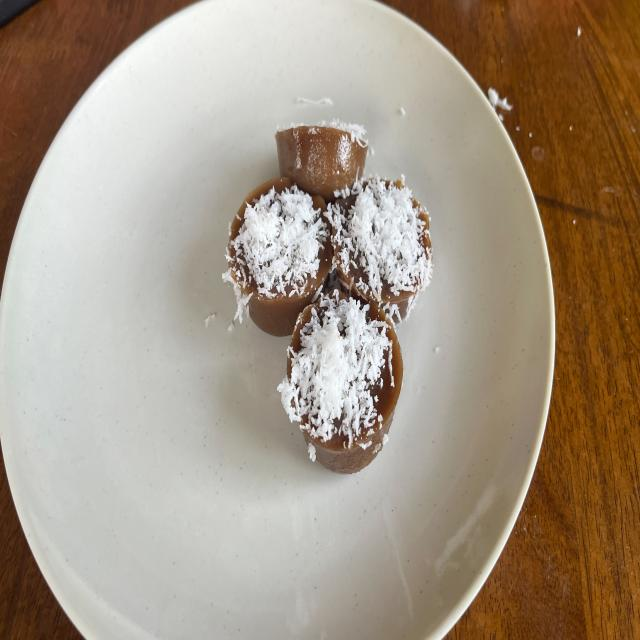Kuih lompang: (279, 289, 402, 473), (224, 178, 332, 336), (328, 176, 432, 320), (275, 127, 368, 202)
